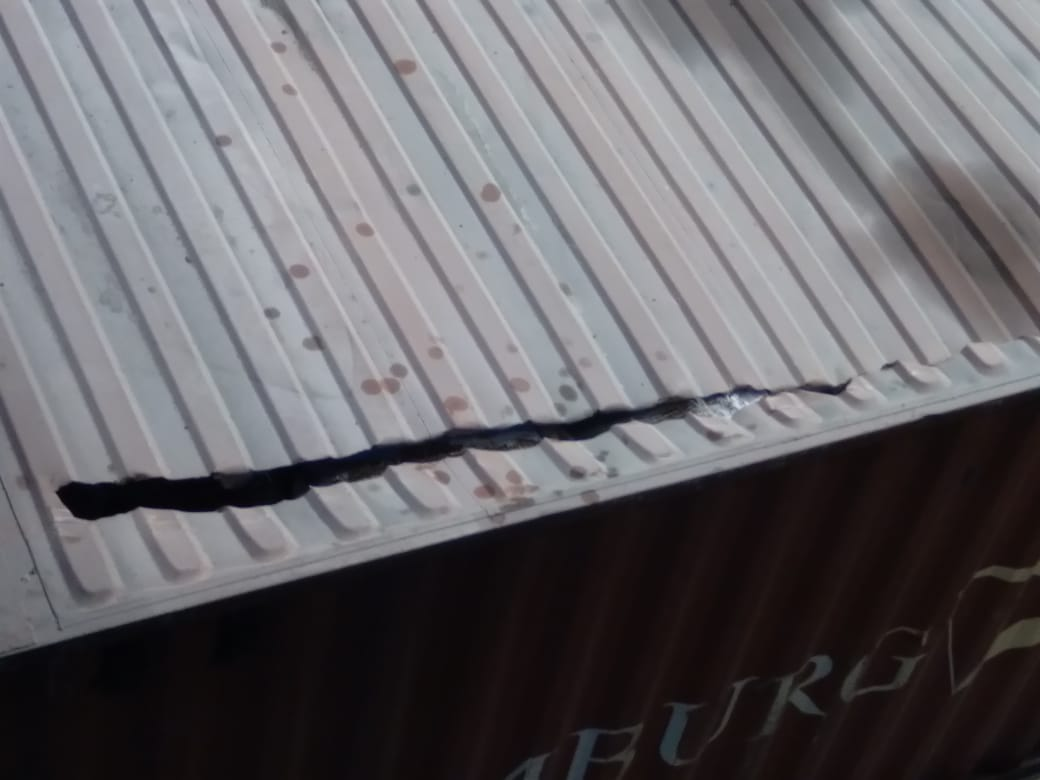cut: (47, 309, 982, 541)
